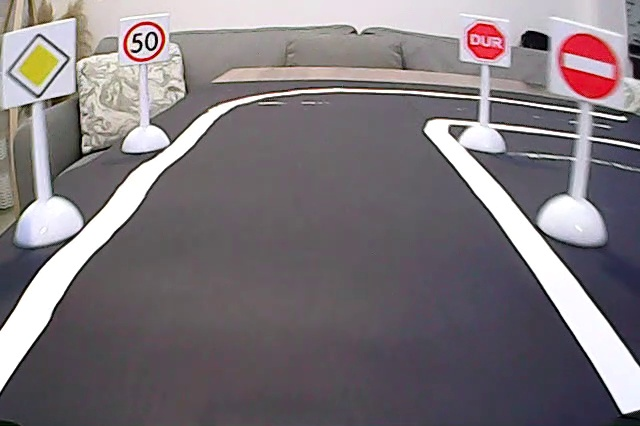do not enter: (558, 22, 625, 105)
speed limit 50: (120, 19, 169, 63)
stop sign: (460, 15, 507, 65)
